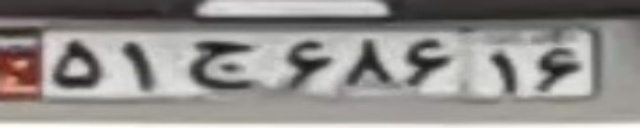1: (120, 40, 163, 90), (489, 47, 519, 94)
5: (52, 38, 102, 88)
6: (279, 39, 335, 90), (400, 36, 452, 85), (532, 46, 582, 91)
8: (345, 37, 394, 87)
jim: (184, 40, 257, 88)
